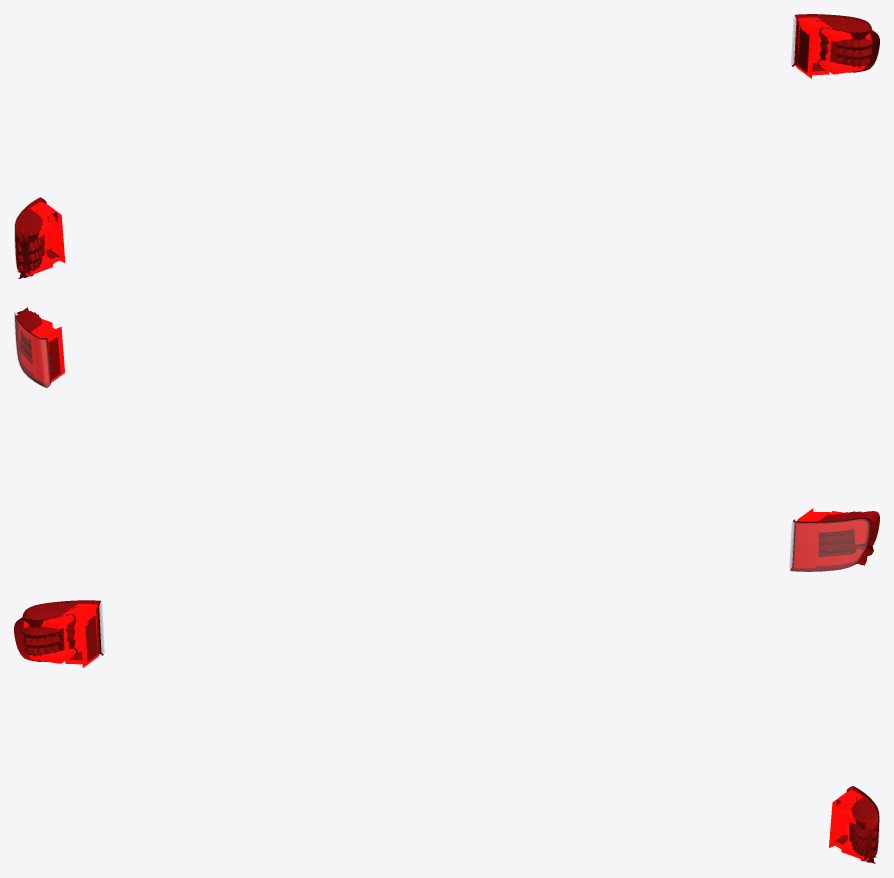
File: катафотлед.glb
3 renders of one model, top to bottom at view 1: azimuth 30°, elevation 25°; view 2: azimuth 150°, elevation 25°; view 3: azimuth 330°, elevation 25°, orthographic.
Parts seen in each view (by area): view 1: Cube.3, Cube.1; view 2: LC200_CarGlass_RedBrake_1, Cube.3, Cube.1; view 3: Cube.3, Cube.1.
Boxes of the visible parts, x1,y1,x2,y2 form: Cube.3: (15,14,879,278); Cube.1: (25,17,870,276); LC200_CarGlass_RedBrake_1: (14,314,869,571); Cube.3: (14,307,879,571); Cube.1: (18,318,867,568); Cube.3: (14,600,879,863); Cube.1: (23,603,868,861).
Bounding box in the file's own units: 2.16 × 0.1253 × 0.1674.
